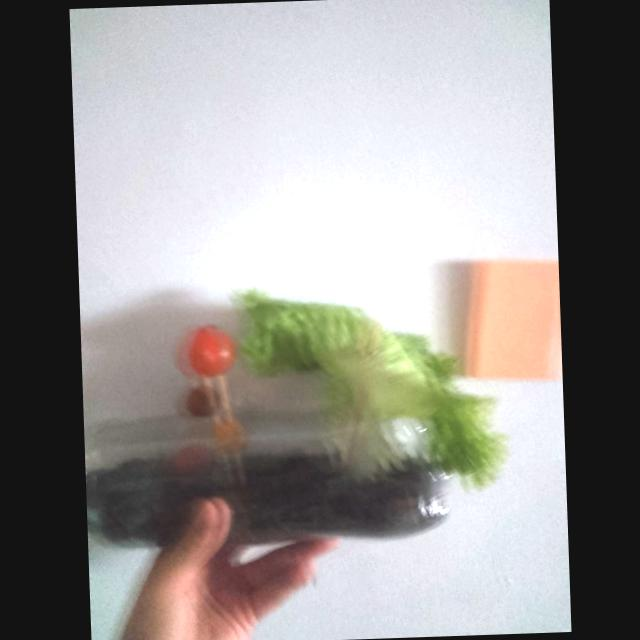card: (463, 259, 562, 379)
fruit_maturation: (187, 326, 235, 377)
